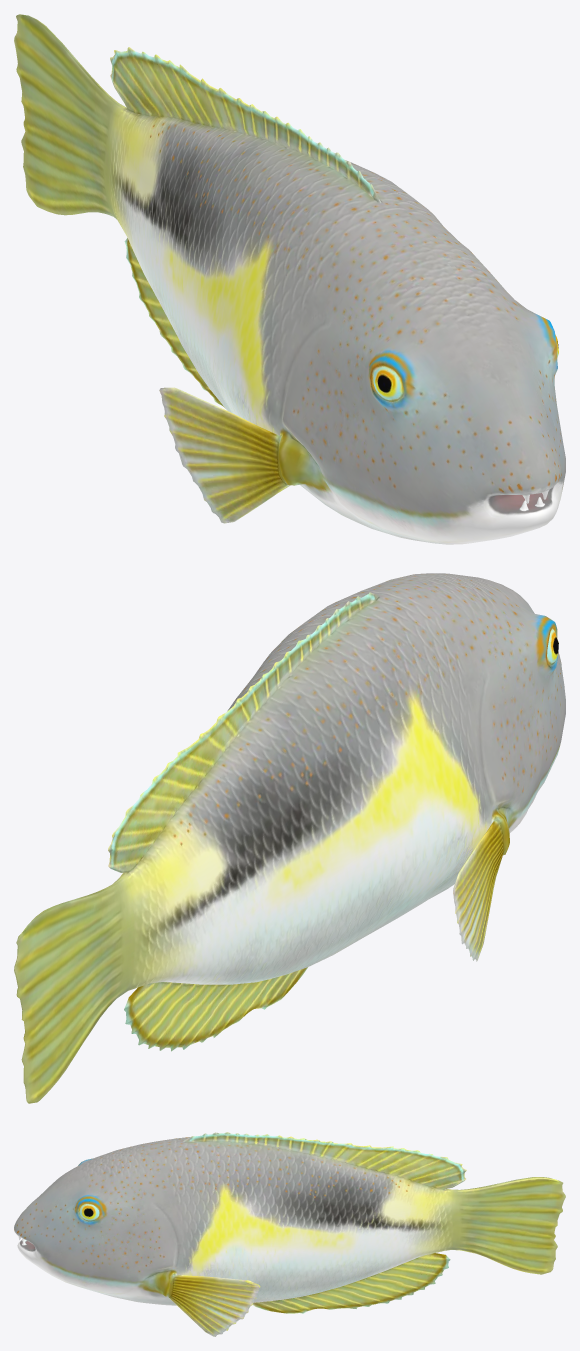
The model's file is tuskfish.glb.
3 renders of one model, top to bottom at view 1: azimuth 30°, elevation 25°; view 2: azimuth 150°, elevation 25°; view 3: azimuth 270°, elevation 25°, orthographic. The views are drawn at different scales.
Visible parts, largest first — view 1: orange_tuskfish_LOD2.1; view 2: orange_tuskfish_LOD2.1; view 3: orange_tuskfish_LOD2.1.
Part boxes in pixels (<box>): orange_tuskfish_LOD2.1: <box>14,14,565,544</box>; orange_tuskfish_LOD2.1: <box>14,573,565,1103</box>; orange_tuskfish_LOD2.1: <box>14,1132,565,1336</box>.
Bounding box in the file's own units: 0.1191 × 0.135 × 0.3708.
1 material, 1 textured.
